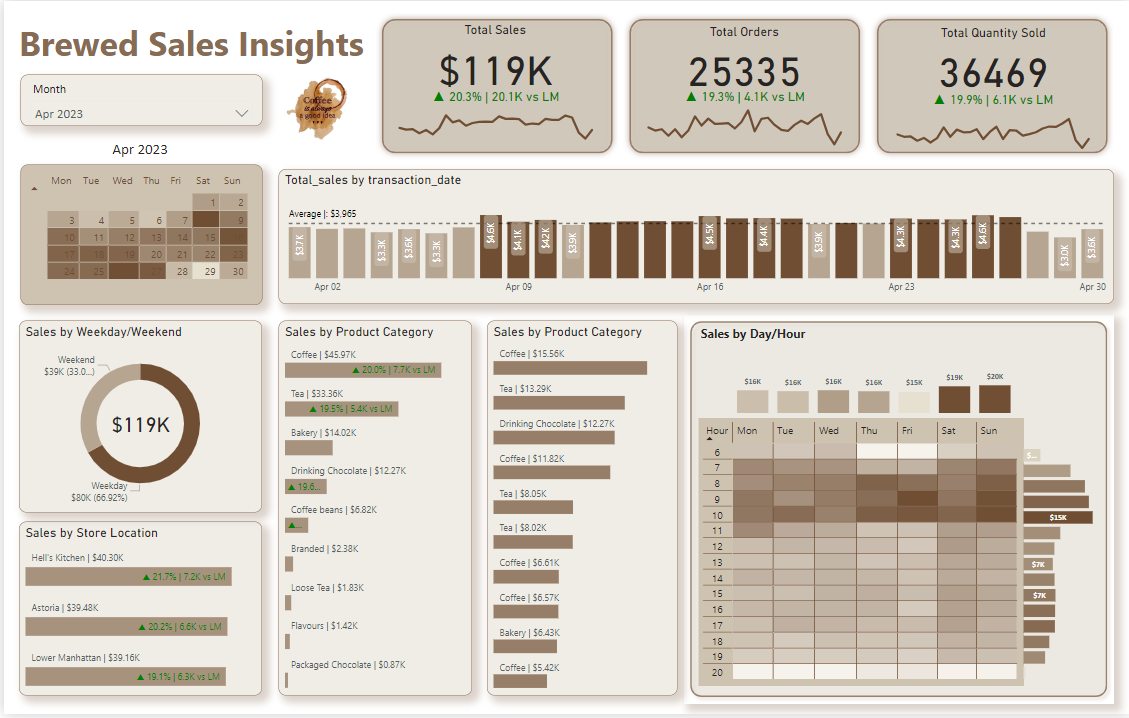

The dashboard page shown, as its layout file describes it:
{"tool":"powerbi","page":{"name":"Page 2","canvas":[1500,950],"ordinal":0},"visuals":[{"type":"card","title":"Total Sales","fields":{"Values":["Transactions.Total_sales"]},"box":[540.5,28.3,230,100],"z":0,"group":"g3"},{"type":"shape","box":[906,418,574,519],"z":0},{"type":"shape","box":[1156.7,16.7,323.3,195],"z":1000},{"type":"lineChart","fields":{"Y":["Transactions.Total_sales"],"Category":["Date Table.Date.Variation.Date Hierarchy.Year","Date Table.Date.Variation.Date Hierarchy.Quarter","Date Table.Date.Variation.Date Hierarchy.Month","Date Table.Date.Variation.Date Hierarchy.Day"]},"box":[512.2,116.6,286.7,91.7],"z":1000,"group":"g3"},{"type":"shape","box":[825,16.7,323.3,195],"z":2000},{"type":"card","title":"Total Orders","fields":{"Values":["Transactions.Total_Orders"]},"box":[872.2,30,230,100],"z":2000,"group":"g2"},{"type":"shape","box":[495,16.7,323.3,195],"z":3000},{"type":"slicer","fields":{"Values":["Date Table.month_year"]},"box":[21.4,98.6,322.9,68.6],"z":4000},{"type":"lineChart","fields":{"Category":["Date Table.Date.Variation.Date Hierarchy.Year","Date Table.Date.Variation.Date Hierarchy.Quarter","Date Table.Date.Variation.Date Hierarchy.Month","Date Table.Date.Variation.Date Hierarchy.Day"],"Y":["Transactions.Total_Orders"]},"box":[843.9,116.7,286.7,91.7],"z":4000,"group":"g2"},{"type":"card","title":"Total Quantity Sold","fields":{"Values":["Transactions.Total_Qty_Sold"]},"box":[1203.9,31.7,230,100],"z":5000,"group":"g1"},{"type":"pivotTable","fields":{"Columns":["Date Table.day name"],"Values":["Sum(Date Table.Day_num)"],"Rows":["Date Table.week_num"]},"box":[21.4,217.1,322.9,187.1],"z":5000},{"type":"lineChart","fields":{"Category":["Date Table.Date.Variation.Date Hierarchy.Year","Date Table.Date.Variation.Date Hierarchy.Quarter","Date Table.Date.Variation.Date Hierarchy.Month","Date Table.Date.Variation.Date Hierarchy.Day"],"Y":["Transactions.Total_Qty_Sold"]},"box":[1175.6,120,285,93.3],"z":6000,"group":"g1"},{"type":"donutChart","title":"Sales by Weekday/Weekend","fields":{"Category":["Date Table.Weekday/Weekend"],"Y":["Transactions.Total_sales"]},"box":[20,426,324,256],"z":6000},{"type":"clusteredBarChart","title":"Sales by Store Location","fields":{"Category":["Transactions.store_location"],"Y":["Transactions.Blank Measure","Transactions.Total_sales"]},"box":[20,694,324,232],"z":7000},{"type":"clusteredColumnChart","fields":{"Category":["Transactions.transaction_date"],"Y":["Transactions.Total_sales"]},"box":[366,224,1114,180],"z":8000},{"type":"clusteredBarChart","title":"Sales by Product Category","fields":{"Y":["Transactions.Blank Measure","Transactions.Total_sales"],"Category":["Transactions.product_category"]},"box":[366,426,258,500],"z":9000},{"type":"clusteredBarChart","title":"Sales by Product Type","fields":{"Y":["Transactions.Blank Measure","Transactions.Total_sales"],"Category":["Transactions.product_type"]},"box":[644,426,254,500],"z":10000},{"type":"group","id":"g1","title":"Group 1","box":[1175.6,31.7,285,181.7],"z":11000},{"type":"pivotTable","fields":{"Columns":["Date Table.day name"],"Rows":["Transactions.Hour"],"Values":["Transactions.Total_sales"]},"box":[926,555,434,357],"z":11000,"group":"g4"},{"type":"group","id":"g2","title":"Group 2","box":[843.9,30,286.7,178.3],"z":12000},{"type":"group","id":"g3","title":"Group 3","box":[512.2,28.3,286.7,180],"z":13000},{"type":"image","box":[345.3,81.1,149.1,118.9],"z":14000},{"type":"card","fields":{"Values":["Min(Date Table.month_year)"]},"box":[114,182,134,32],"z":15000},{"type":"shape","box":[20,15.7,474.3,77.1],"z":16000},{"type":"group","id":"g4","title":"Group 4","box":[926,478,558,434],"z":17000},{"type":"clusteredColumnChart","fields":{"Category":["Date Table.day name"],"Y":["Transactions.Total_sales"]},"box":[972,478,376,77],"z":17000,"group":"g4"},{"type":"textbox","box":[924,426,576,40],"z":18000},{"type":"clusteredBarChart","fields":{"Category":["Transactions.Hour"],"Y":["Transactions.Total_sales"]},"box":[1354,583.7,131.7,325],"z":18000,"group":"g4"},{"type":"card","fields":{"Values":["Transactions.Total_sales"]},"box":[118,542,128,42],"z":19000}]}

Visuals, with their boxes in screenshot pixels (x1, y1, x2, y2), scaled from the page's 1500x950 canvas onto the 1129x718 screenshot:
"Total Sales" card: pyautogui.locateOnScreen(407, 21, 580, 97)
shape: pyautogui.locateOnScreen(682, 316, 1114, 708)
shape: pyautogui.locateOnScreen(871, 13, 1114, 160)
lineChart - Transactions.Total_sales x Date Table.Date.Variation.Date Hierarchy.Year: pyautogui.locateOnScreen(386, 88, 601, 157)
shape: pyautogui.locateOnScreen(621, 13, 864, 160)
"Total Orders" card: pyautogui.locateOnScreen(656, 23, 830, 98)
shape: pyautogui.locateOnScreen(373, 13, 616, 160)
slicer - Date Table.month_year: pyautogui.locateOnScreen(16, 75, 259, 126)
lineChart - Date Table.Date.Variation.Date Hierarchy.Year x Date Table.Date.Variation.Date Hierarchy.Quarter: pyautogui.locateOnScreen(635, 88, 851, 158)
"Total Quantity Sold" card: pyautogui.locateOnScreen(906, 24, 1079, 100)
pivotTable - Date Table.day name x Sum(Date Table.Day_num): pyautogui.locateOnScreen(16, 164, 259, 305)
lineChart - Date Table.Date.Variation.Date Hierarchy.Year x Date Table.Date.Variation.Date Hierarchy.Quarter: pyautogui.locateOnScreen(885, 91, 1099, 161)
"Sales by Weekday/Weekend" donutChart: pyautogui.locateOnScreen(15, 322, 259, 515)
"Sales by Store Location" clusteredBarChart: pyautogui.locateOnScreen(15, 525, 259, 700)
clusteredColumnChart - Transactions.transaction_date x Transactions.Total_sales: pyautogui.locateOnScreen(275, 169, 1114, 305)
"Sales by Product Category" clusteredBarChart: pyautogui.locateOnScreen(275, 322, 470, 700)
"Sales by Product Type" clusteredBarChart: pyautogui.locateOnScreen(485, 322, 676, 700)
"Group 1" group: pyautogui.locateOnScreen(885, 24, 1099, 161)
pivotTable - Date Table.day name x Transactions.Hour: pyautogui.locateOnScreen(697, 419, 1024, 689)
"Group 2" group: pyautogui.locateOnScreen(635, 23, 851, 157)
"Group 3" group: pyautogui.locateOnScreen(386, 21, 601, 157)
image: pyautogui.locateOnScreen(260, 61, 372, 151)
card - Min(Date Table.month_year): pyautogui.locateOnScreen(86, 138, 187, 162)
shape: pyautogui.locateOnScreen(15, 12, 372, 70)
"Group 4" group: pyautogui.locateOnScreen(697, 361, 1117, 689)
clusteredColumnChart - Date Table.day name x Transactions.Total_sales: pyautogui.locateOnScreen(732, 361, 1015, 419)
textbox: pyautogui.locateOnScreen(695, 322, 1128, 352)
clusteredBarChart - Transactions.Hour x Transactions.Total_sales: pyautogui.locateOnScreen(1019, 441, 1118, 687)
card - Transactions.Total_sales: pyautogui.locateOnScreen(89, 410, 185, 441)
